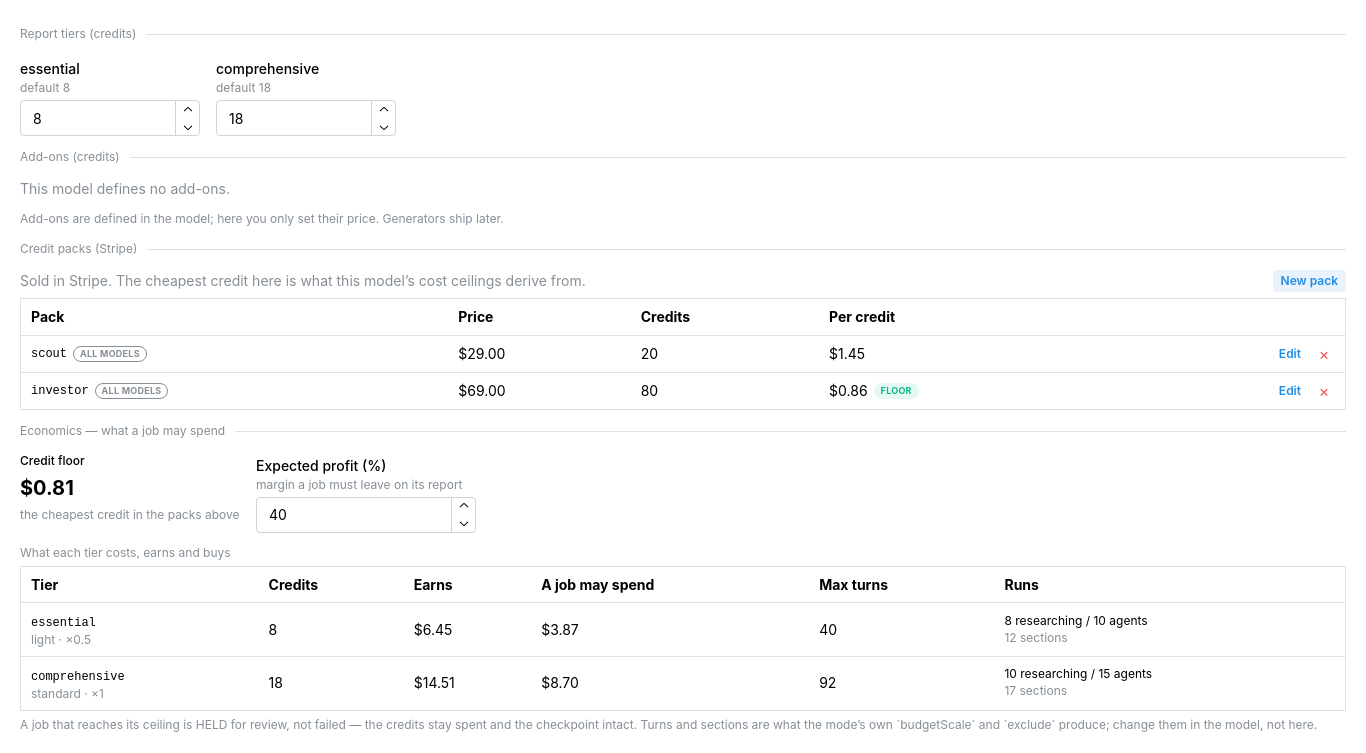
it: the live preview › recomputes the tiers on the SERVER while the inputs change, and says the figures are unsaved
This screenshot has width=1366, height=753.
(page scrolled)
Expected: the table with test id "tiers" shows "$8.70", x1=541 y1=674 x2=579 y2=691
Expected: the text "unsaved" is not shown
Replace the text in the field labelled "Expected profit (%)" with "10": {"x": 366, "y": 515} x1=256 y1=497 x2=476 y2=533
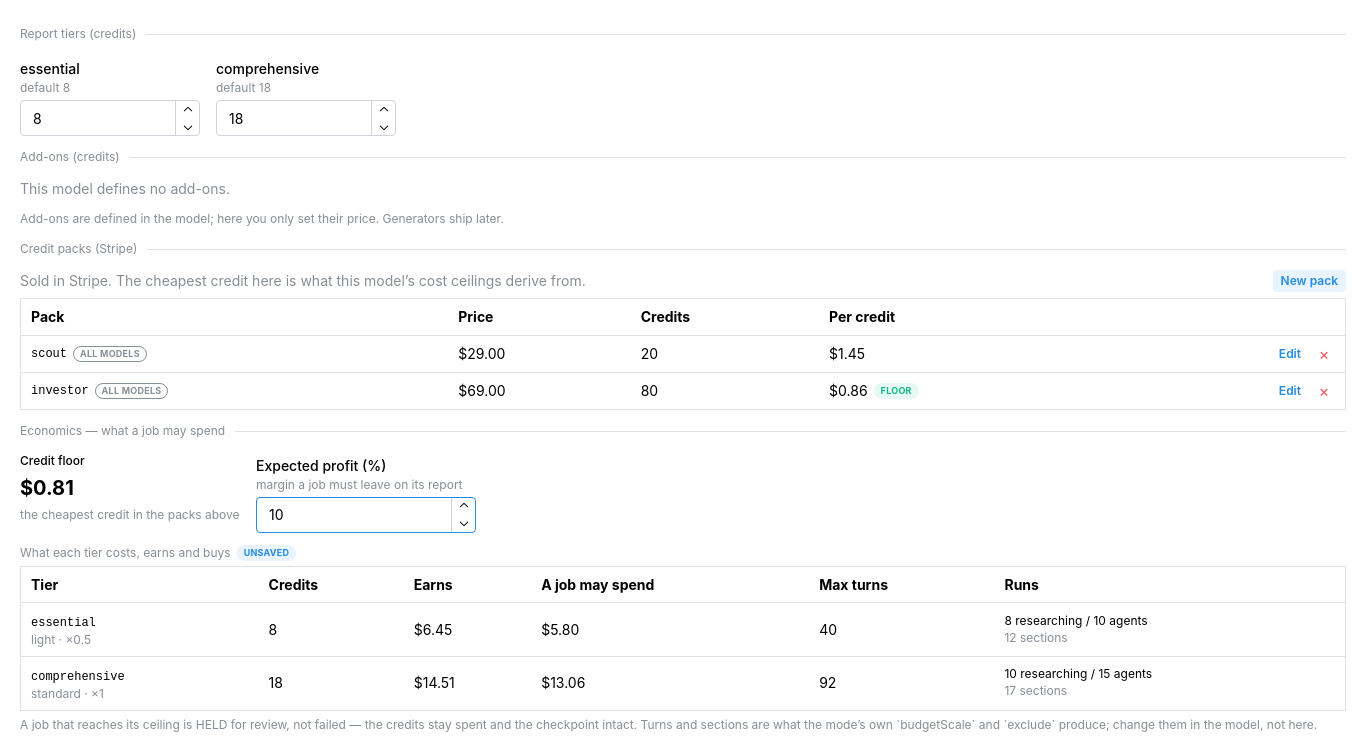
Now the table with test id "tiers" shows "$13.06", box x1=541 y1=674 x2=585 y2=691
Now the text "unsaved" is shown, box x1=244 y1=546 x2=289 y2=560
